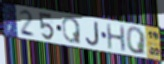2: (17, 10, 36, 38)
5: (38, 11, 56, 42)
H: (106, 22, 128, 53)
J: (85, 20, 101, 47)
Q: (125, 27, 148, 57), (62, 16, 83, 46)
